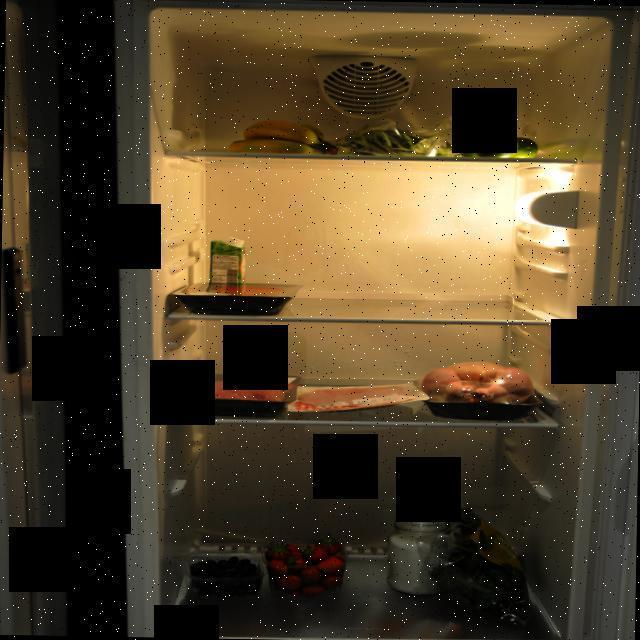Banana: (225, 117, 330, 158)
Beans: (334, 117, 480, 158)
Beef: (173, 370, 300, 414), (170, 282, 306, 316)
Berries strawberries/blueberries: (262, 532, 352, 598), (185, 552, 260, 598)
Chicken: (419, 357, 548, 422)
Cream: (206, 238, 247, 288)
Ham: (296, 382, 425, 416)
Lime: (464, 134, 540, 160)
Spinach bagged/loose: (422, 502, 544, 634)
Sugar: (384, 505, 456, 595)
